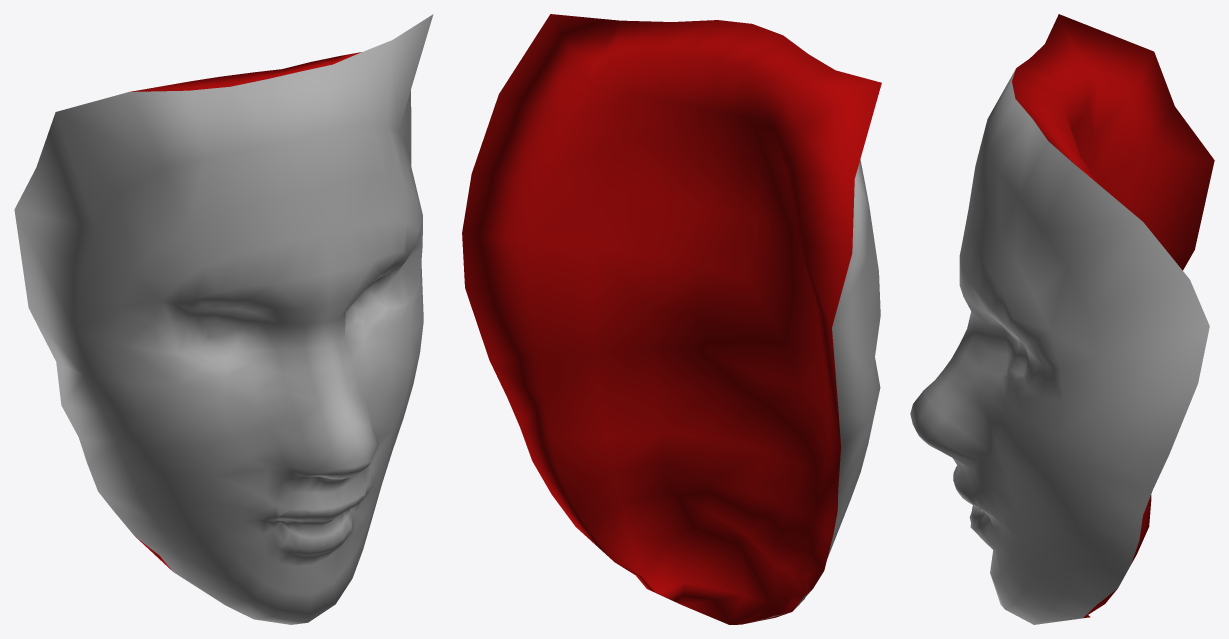
The model's file is Earth_low.fbx.
3 renders of one model, left to right at view 1: azimuth 30°, elevation 25°; view 2: azimuth 150°, elevation 25°; view 3: azimuth 270°, elevation 25°, orthographic. The views are drawn at different scales.
Visible parts, largest first — view 1: Earth_low; view 2: Earth_low; view 3: Earth_low.
Boxes of the visible parts, <box> form: Earth_low: <box>14,14,433,624</box>; Earth_low: <box>462,14,881,624</box>; Earth_low: <box>910,14,1214,624</box>.
Bounding box in the file's own units: 0.1533 × 0.2264 × 0.1163.
